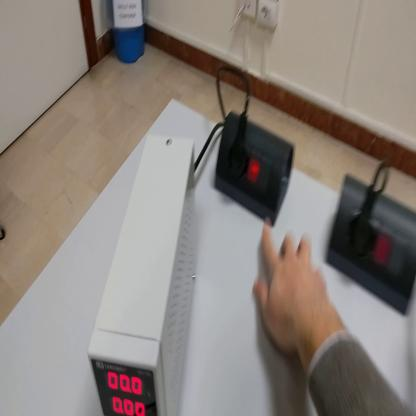hand: (255, 221, 335, 357)
power supply: (90, 132, 199, 415)
socket: (326, 172, 415, 318), (218, 107, 300, 225)
